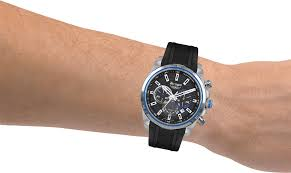clock: (145, 68, 202, 125)
